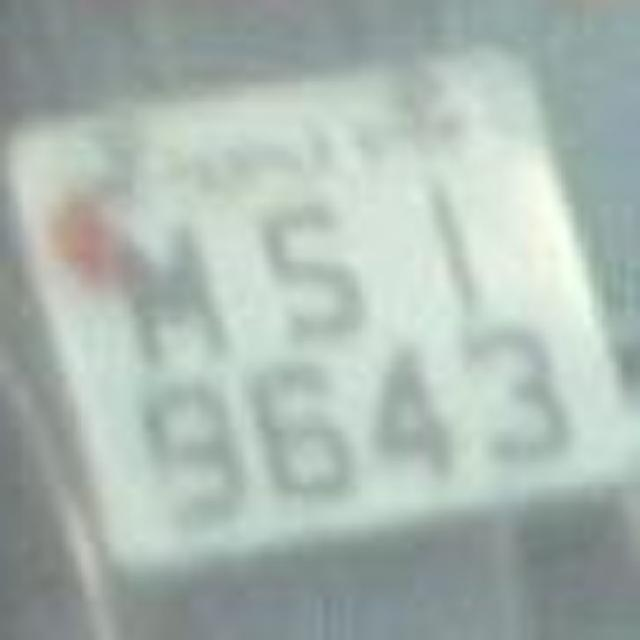3: (440, 300, 595, 488)
4: (348, 320, 472, 500)
6: (232, 335, 368, 520)
9: (128, 360, 260, 535)
N: (108, 204, 228, 376)
